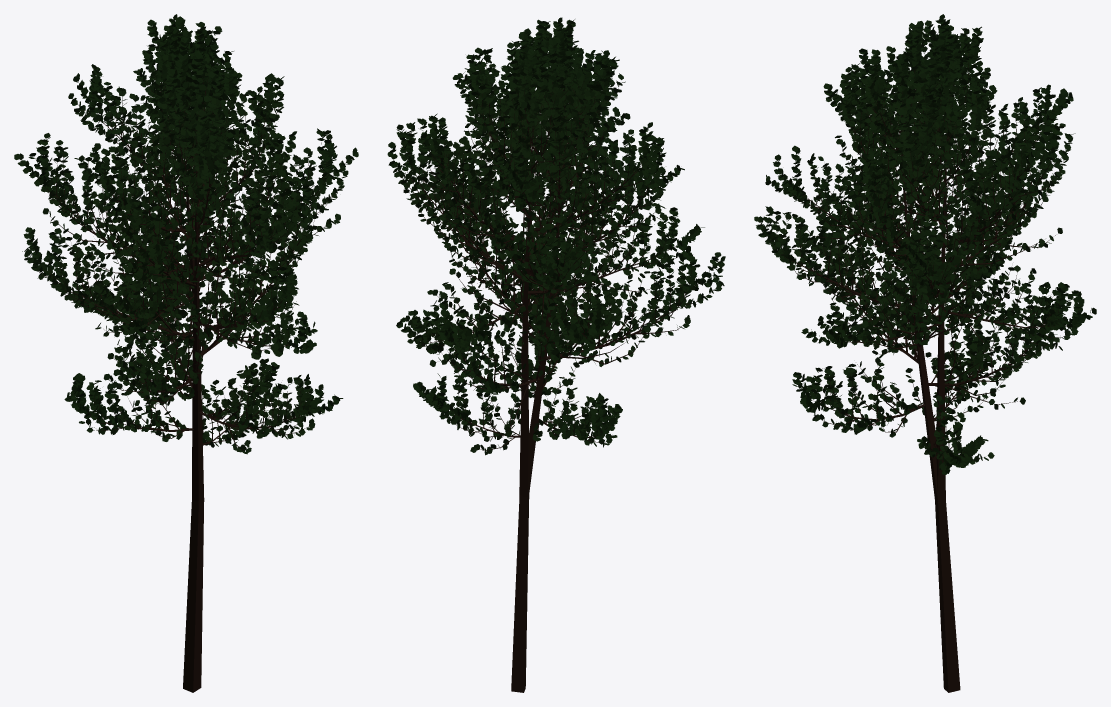
Rendered from arvore.obj.
3 views of the same model, side by side, from view 1: azimuth 30°, elevation 25°; view 2: azimuth 150°, elevation 25°; view 3: azimuth 270°, elevation 25° (orthographic). The views are drawn at different scales.
Parts seen in each view (by area): view 1: leaves, tree; view 2: leaves, tree; view 3: leaves, tree.
Part boxes in pixels (x1,y1,x2,y2): leaves: (14, 14, 358, 454); tree: (30, 57, 348, 692); leaves: (387, 17, 725, 455); tree: (392, 58, 720, 692); leaves: (754, 14, 1096, 474); tree: (765, 44, 1078, 692).
Bounding box in the file's own units: 7.86 × 17.69 × 8.25.
